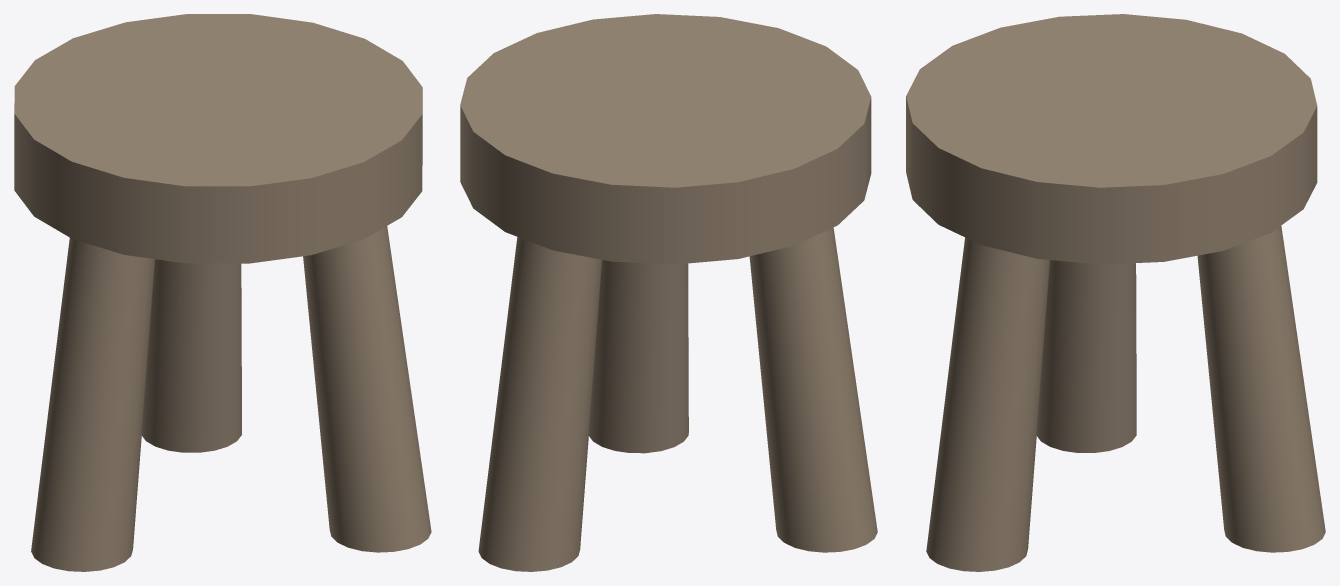
The model's file is Stool.fbx.
3 views of the same model, side by side, from view 1: azimuth 30°, elevation 25°; view 2: azimuth 150°, elevation 25°; view 3: azimuth 270°, elevation 25° (orthographic).
Visible parts, largest first — view 1: pCylinder4, pCylinder7, pCylinder6, pCylinder5; view 2: pCylinder4, pCylinder5, pCylinder7, pCylinder6; view 3: pCylinder4, pCylinder6, pCylinder5, pCylinder7.
Part boxes in pixels (left/top/right/bottom): pCylinder4: left=14, top=14, right=422, bottom=263; pCylinder7: left=31, top=238, right=155, bottom=571; pCylinder6: left=303, top=226, right=431, bottom=552; pCylinder5: left=141, top=259, right=241, bottom=452; pCylinder4: left=460, top=14, right=871, bottom=264; pCylinder5: left=478, top=237, right=602, bottom=571; pCylinder7: left=749, top=227, right=877, bottom=552; pCylinder6: left=589, top=260, right=688, bottom=453; pCylinder4: left=906, top=14, right=1317, bottom=264; pCylinder6: left=926, top=237, right=1049, bottom=571; pCylinder5: left=1197, top=226, right=1325, bottom=552; pCylinder7: left=1036, top=260, right=1136, bottom=452.
Bounding box in the file's own units: 0.6039 × 0.6288 × 0.5927.
